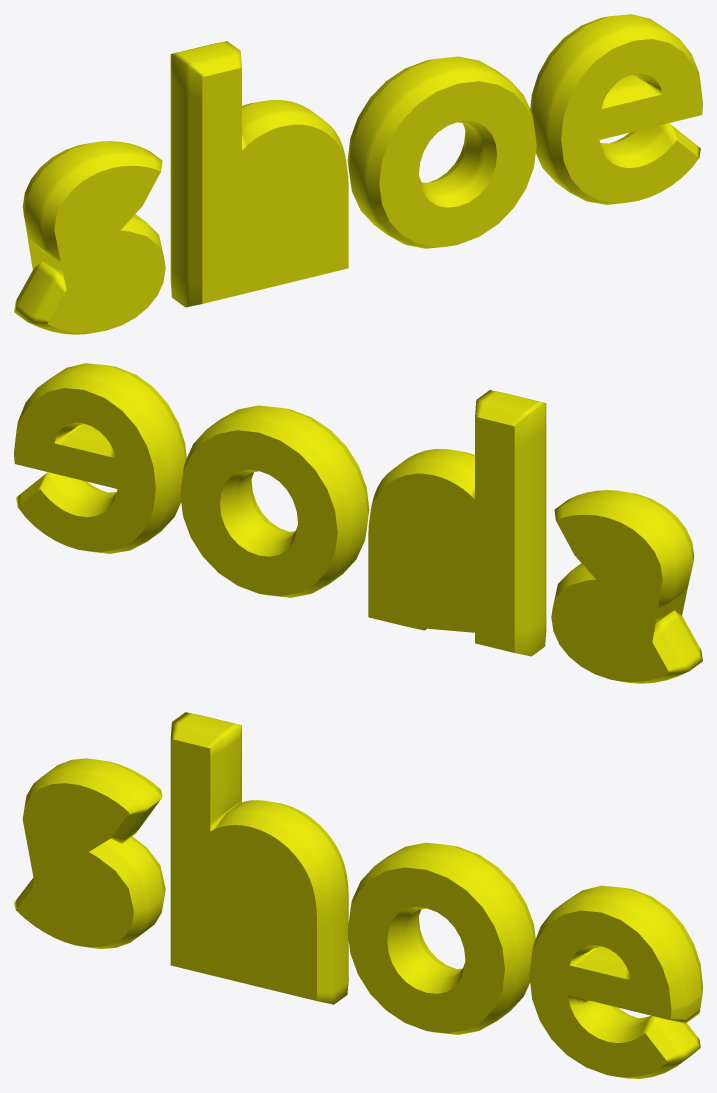
File: shoe.fbx
3 views of the same model, one above another, from view 1: azimuth 30°, elevation 25°; view 2: azimuth 150°, elevation 25°; view 3: azimuth 330°, elevation 25° (orthographic).
Visible parts, largest first — view 1: bevelPolygon2, bevelPolygon3, bevelPolygon4, bevelPolygon1; view 2: bevelPolygon2, bevelPolygon3, bevelPolygon4, bevelPolygon1; view 3: bevelPolygon2, bevelPolygon4, bevelPolygon3, bevelPolygon1.
Boxes of the visible parts, x1,y1,x2,y2 form: bevelPolygon2: (170,41,348,307); bevelPolygon3: (347,56,536,248); bevelPolygon4: (530,14,702,204); bevelPolygon1: (14,141,165,334); bevelPolygon2: (368,390,546,656); bevelPolygon3: (180,405,369,597); bevelPolygon4: (14,363,186,553); bevelPolygon1: (551,490,702,683); bevelPolygon2: (170,712,348,1004); bevelPolygon4: (529,885,702,1078); bevelPolygon3: (347,842,535,1034); bevelPolygon1: (14,758,165,948).
Size of the model in its own units: 8.61 by 3.01 by 0.7.
